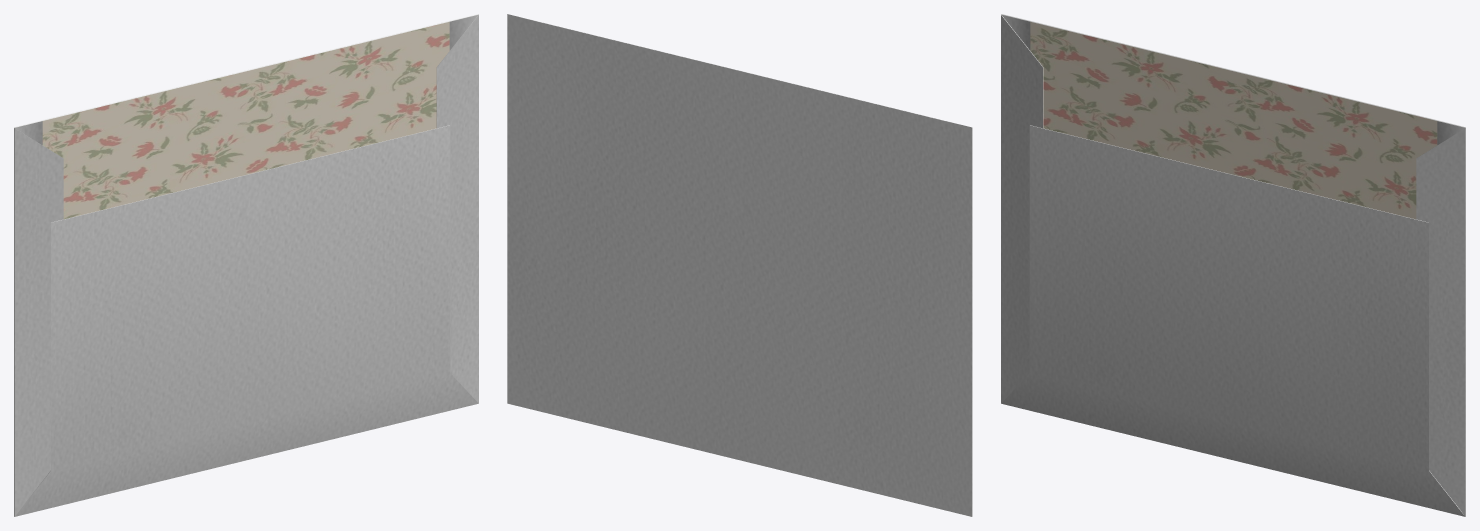
File: Envelope-DemUP9zL.glb
3 views of the same model, side by side, from view 1: azimuth 30°, elevation 25°; view 2: azimuth 150°, elevation 25°; view 3: azimuth 330°, elevation 25° (orthographic).
Parts seen in each view (by area): view 1: grid1; view 2: grid1; view 3: grid1.
Part boxes in pixels (x1,y1,x2,y2): grid1: (14, 14, 478, 516); grid1: (507, 14, 972, 516); grid1: (1001, 14, 1465, 516).
Size of the model in its own units: 1 by 0.8012 by 0.018.
Materials: 5 (5 with a texture image).
